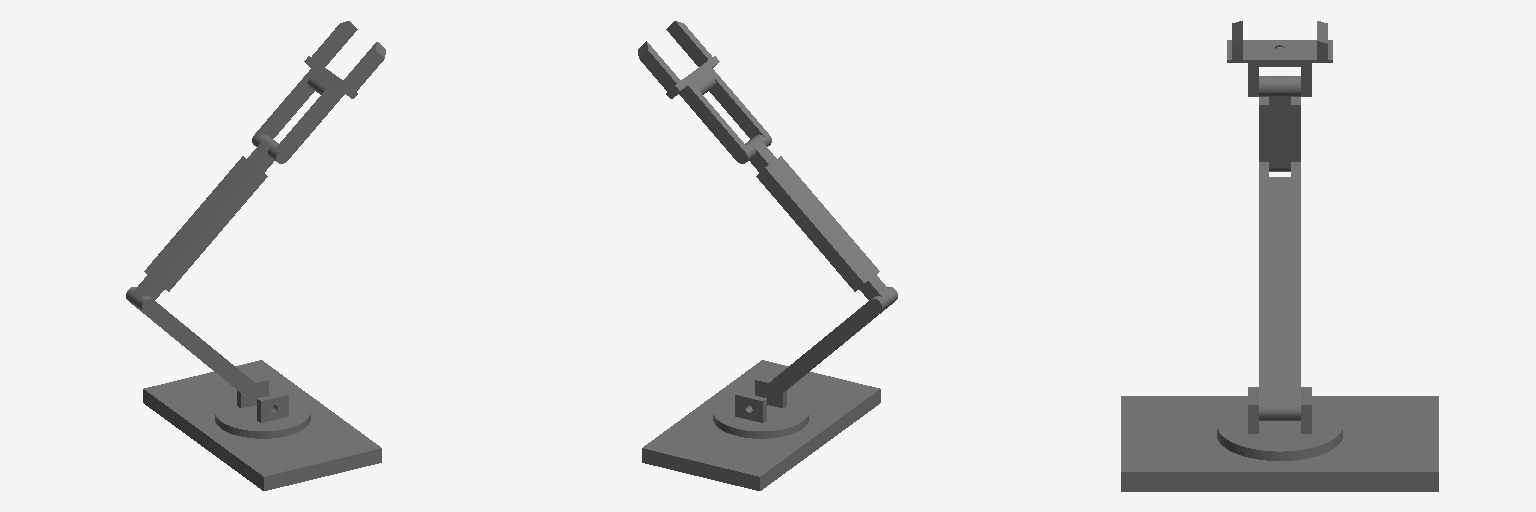
robot.urdf — aurora_arm:
<?xml version="1.0"?>
<robot name="aurora_arm">
    <material name="gray">
        <color rgba ="0.5 0.5 0.5 1.0"/>
    </material>

    <link name="base_link">
        <inertial>
            <origin rpy="0 0 0" xyz="0 0 0"/>
            <mass value="100.0"/>
            <inertia ixx="10.0" ixy="0.0" ixz="0.0" iyy="10.0" iyz="0.0" izz="10.0"/>
        </inertial>
        <collision>
            <geometry>
                <box size="0.2 0.2 0.1"/>
            </geometry>
            <origin rpy="0 0 0" xyz="0 0 0.05"/>
        </collision>
    </link>

    <link name = "state_link">
        <visual>
            <origin xyz="0 0 0"/>
            <geometry>
                <mesh filename="package://aurora_arm_v2/meshes/base_link.stl" scale="0.001 0.001 0.001"/>
            </geometry>
            <material name="gray"/>
        </visual>
        <collision>
            <origin xyz="0 0 0"/>
            <geometry>
                <mesh filename="package://aurora_arm_v2/meshes/base_link.stl" scale="0.001 0.001 0.001"/>
            </geometry>
        </collision>
    </link>

    <link name = "base_spin_link">
        <visual>
            <origin xyz="-0.0 -0.03 -0.0"/>
            <geometry>
                <mesh filename="package://aurora_arm_v2/meshes/arm1_link_1.stl" scale="0.001 0.001 0.001"/>
            </geometry>
            <material name="gray"/>
        </visual>
        <collision>
            <origin xyz="-0.0 -0.03 -0.0"/>
            <geometry>
                <mesh filename="package://aurora_arm_v2/meshes/arm1_link_1.stl" scale="0.001 0.001 0.001"/>
            </geometry>
        </collision>
    </link>

    <link name = "arm2_link">
        <visual>
            <origin xyz="5e-06 -0.045 0.02"/>
            <geometry>
                <mesh filename="package://aurora_arm_v2/meshes/arm2_link_1.stl" scale="0.001 0.001 0.001"/>
            </geometry>
            <material name="gray"/>
        </visual>

        <collision>
            <origin xyz="5e-06 -0.045 0.02"/>
            <geometry>
                <mesh filename="package://aurora_arm_v2/meshes/arm2_link_1.stl" scale="0.001 0.001 0.001"/>
            </geometry>
        </collision>
        
    </link>

    <link name = "arm3_link">
        <visual>
            <origin xyz="0.175348 -0.223192 -0.010046"/>
            <geometry>
                <mesh filename="package://aurora_arm_v2/meshes/arm3_link_1.stl" scale="0.001 0.001 0.001"/>
            </geometry>
            <material name="gray"/>
        </visual>

        <collision>
            <origin xyz="0.175348 -0.223192 -0.010046"/>
            <geometry>
                <mesh filename="package://aurora_arm_v2/meshes/arm3_link_1.stl" scale="0.001 0.001 0.001"/>
            </geometry>
        </collision>

    </link>

    <link name = "arm4_link">
        <visual>
            <origin xyz="-0.011997 -0.388722 0.010003"/>
            <geometry>
                <mesh filename="package://aurora_arm_v2/meshes/arm4_link_1.stl" scale="0.001 0.001 0.001"/>
            </geometry>
            <material name="gray"/>
        </visual>

        <collision>
            <origin xyz="-0.011997 -0.388722 0.010003"/>
            <geometry>
                <mesh filename="package://aurora_arm_v2/meshes/arm4_link_1.stl" scale="0.001 0.001 0.001"/>
            </geometry>
        </collision>

    </link>

    <link name = "arm5_link">
        <visual>
            <origin xyz="-0.026167 -0.502846 7e-06"/>
            <geometry>
                <mesh filename="package://aurora_arm_v2/meshes/arm5_link_1.stl" scale="0.001 0.001 0.001"/>
            </geometry>
            <material name="gray"/>
        </visual>

        <collision>
            <origin xyz="-0.026167 -0.502846 7e-06"/>
            <geometry>
                <mesh filename="package://aurora_arm_v2/meshes/arm5_link_1.stl" scale="0.001 0.001 0.001"/>
            </geometry>
        </collision>

    </link>

    <joint name="base" type="fixed">
        <parent link="base_link"/>
        <child link="state_link"/>
        <origin rpy="1.5707963267948966 0 0" xyz="0 0 0"/>
    </joint>

    <joint name ="body_spin_joint" type="fixed">
        <parent link="state_link"/>
        <child link="base_spin_link"/>
        <origin xyz="0.0 0.03 0.0" rpy="0 0 0"/>
        <axis xyz="0.0 1.0 0.0"/>
        <limit upper="-0.392699" lower="-2.748894" effort="100" velocity="100"/>
    </joint>

    <joint name ="arm1_joint" type="revolute">
        <parent link="base_spin_link"/>
        <child link="arm2_link"/>
        <origin xyz="-5e-06 0.015 -0.02" rpy="0 0 0"/>
        <axis xyz="-0.00026 -0.0 -1.0"/>
        <limit upper="1.570796" lower="-0.785398" effort="100" velocity="100"/>
    </joint>

    <joint name="arm2_joint" type="revolute">
        <parent link="arm2_link"/>
        <child link="arm3_link"/>
        <origin xyz="-0.175343 0.178192 0.030046" rpy="0 0 0"/>
        <axis xyz="-0.00026 0.0 -1.0"/>
        <limit upper="0.785398" lower="-3.141593" effort="100" velocity="100"/>
    </joint>

    <joint name="arm3_joint" type="revolute">
        <parent link="arm3_link"/>
        <child link="arm4_link"/>
        <origin xyz="0.187345 0.16553 -0.020049" rpy="0 0 0"/>
        <axis xyz="-0.00026 0.0 -1.0"/>
        <limit upper="1.570796" lower="-0.872665" effort="100" velocity="100"/>
    </joint>

    <joint name="arm4_joint" type="revolute">
        <parent link="arm4_link"/>
        <child link="arm5_link"/>
        <origin xyz="0.01417 0.114124 0.009996" rpy="0 0 0"/>
        <axis xyz="0.749398 0.662119 -0.000195"/>
        <limit upper="2.356194" lower="-2.356194" effort="100" velocity="100"/>
    </joint>    
    
</robot>

--- Facts derived from the render (not from the file) ---
Views: 3 orthographic renders of the robot side by side, from view 1: azimuth 30°, elevation 25°; view 2: azimuth 150°, elevation 25°; view 3: azimuth 270°, elevation 25°.
Model aurora_arm with 7 links and 6 joints (4 revolute, 2 fixed), rooted at base_link, posed every joint at zero.
Links seen in each view (by area): view 1: state_link, arm3_link, base_spin_link, arm4_link, arm2_link, arm5_link; view 2: state_link, arm3_link, base_spin_link, arm4_link, arm2_link, arm5_link; view 3: state_link, arm2_link, base_spin_link, arm3_link, arm5_link, arm4_link.
Link boxes in pixels (x1,y1,x2,y2): state_link: (143, 360, 381, 490); arm3_link: (130, 137, 278, 308); base_spin_link: (215, 377, 310, 438); arm4_link: (252, 68, 344, 163); arm2_link: (126, 287, 273, 408); arm5_link: (304, 21, 385, 98); state_link: (642, 360, 880, 490); arm3_link: (745, 137, 893, 308); base_spin_link: (713, 377, 808, 438); arm4_link: (679, 68, 771, 163); arm2_link: (750, 287, 897, 408); arm5_link: (638, 21, 719, 98); state_link: (1121, 396, 1438, 491); arm2_link: (1259, 162, 1300, 420); base_spin_link: (1217, 387, 1342, 460); arm3_link: (1259, 76, 1300, 171); arm5_link: (1227, 21, 1332, 62); arm4_link: (1248, 47, 1311, 96).
Size in the robot's own frame: 0.3426 by 0.3 by 0.5187 metres.
6 mesh visuals loaded from 6 distinct referenced files (6 binary STL).